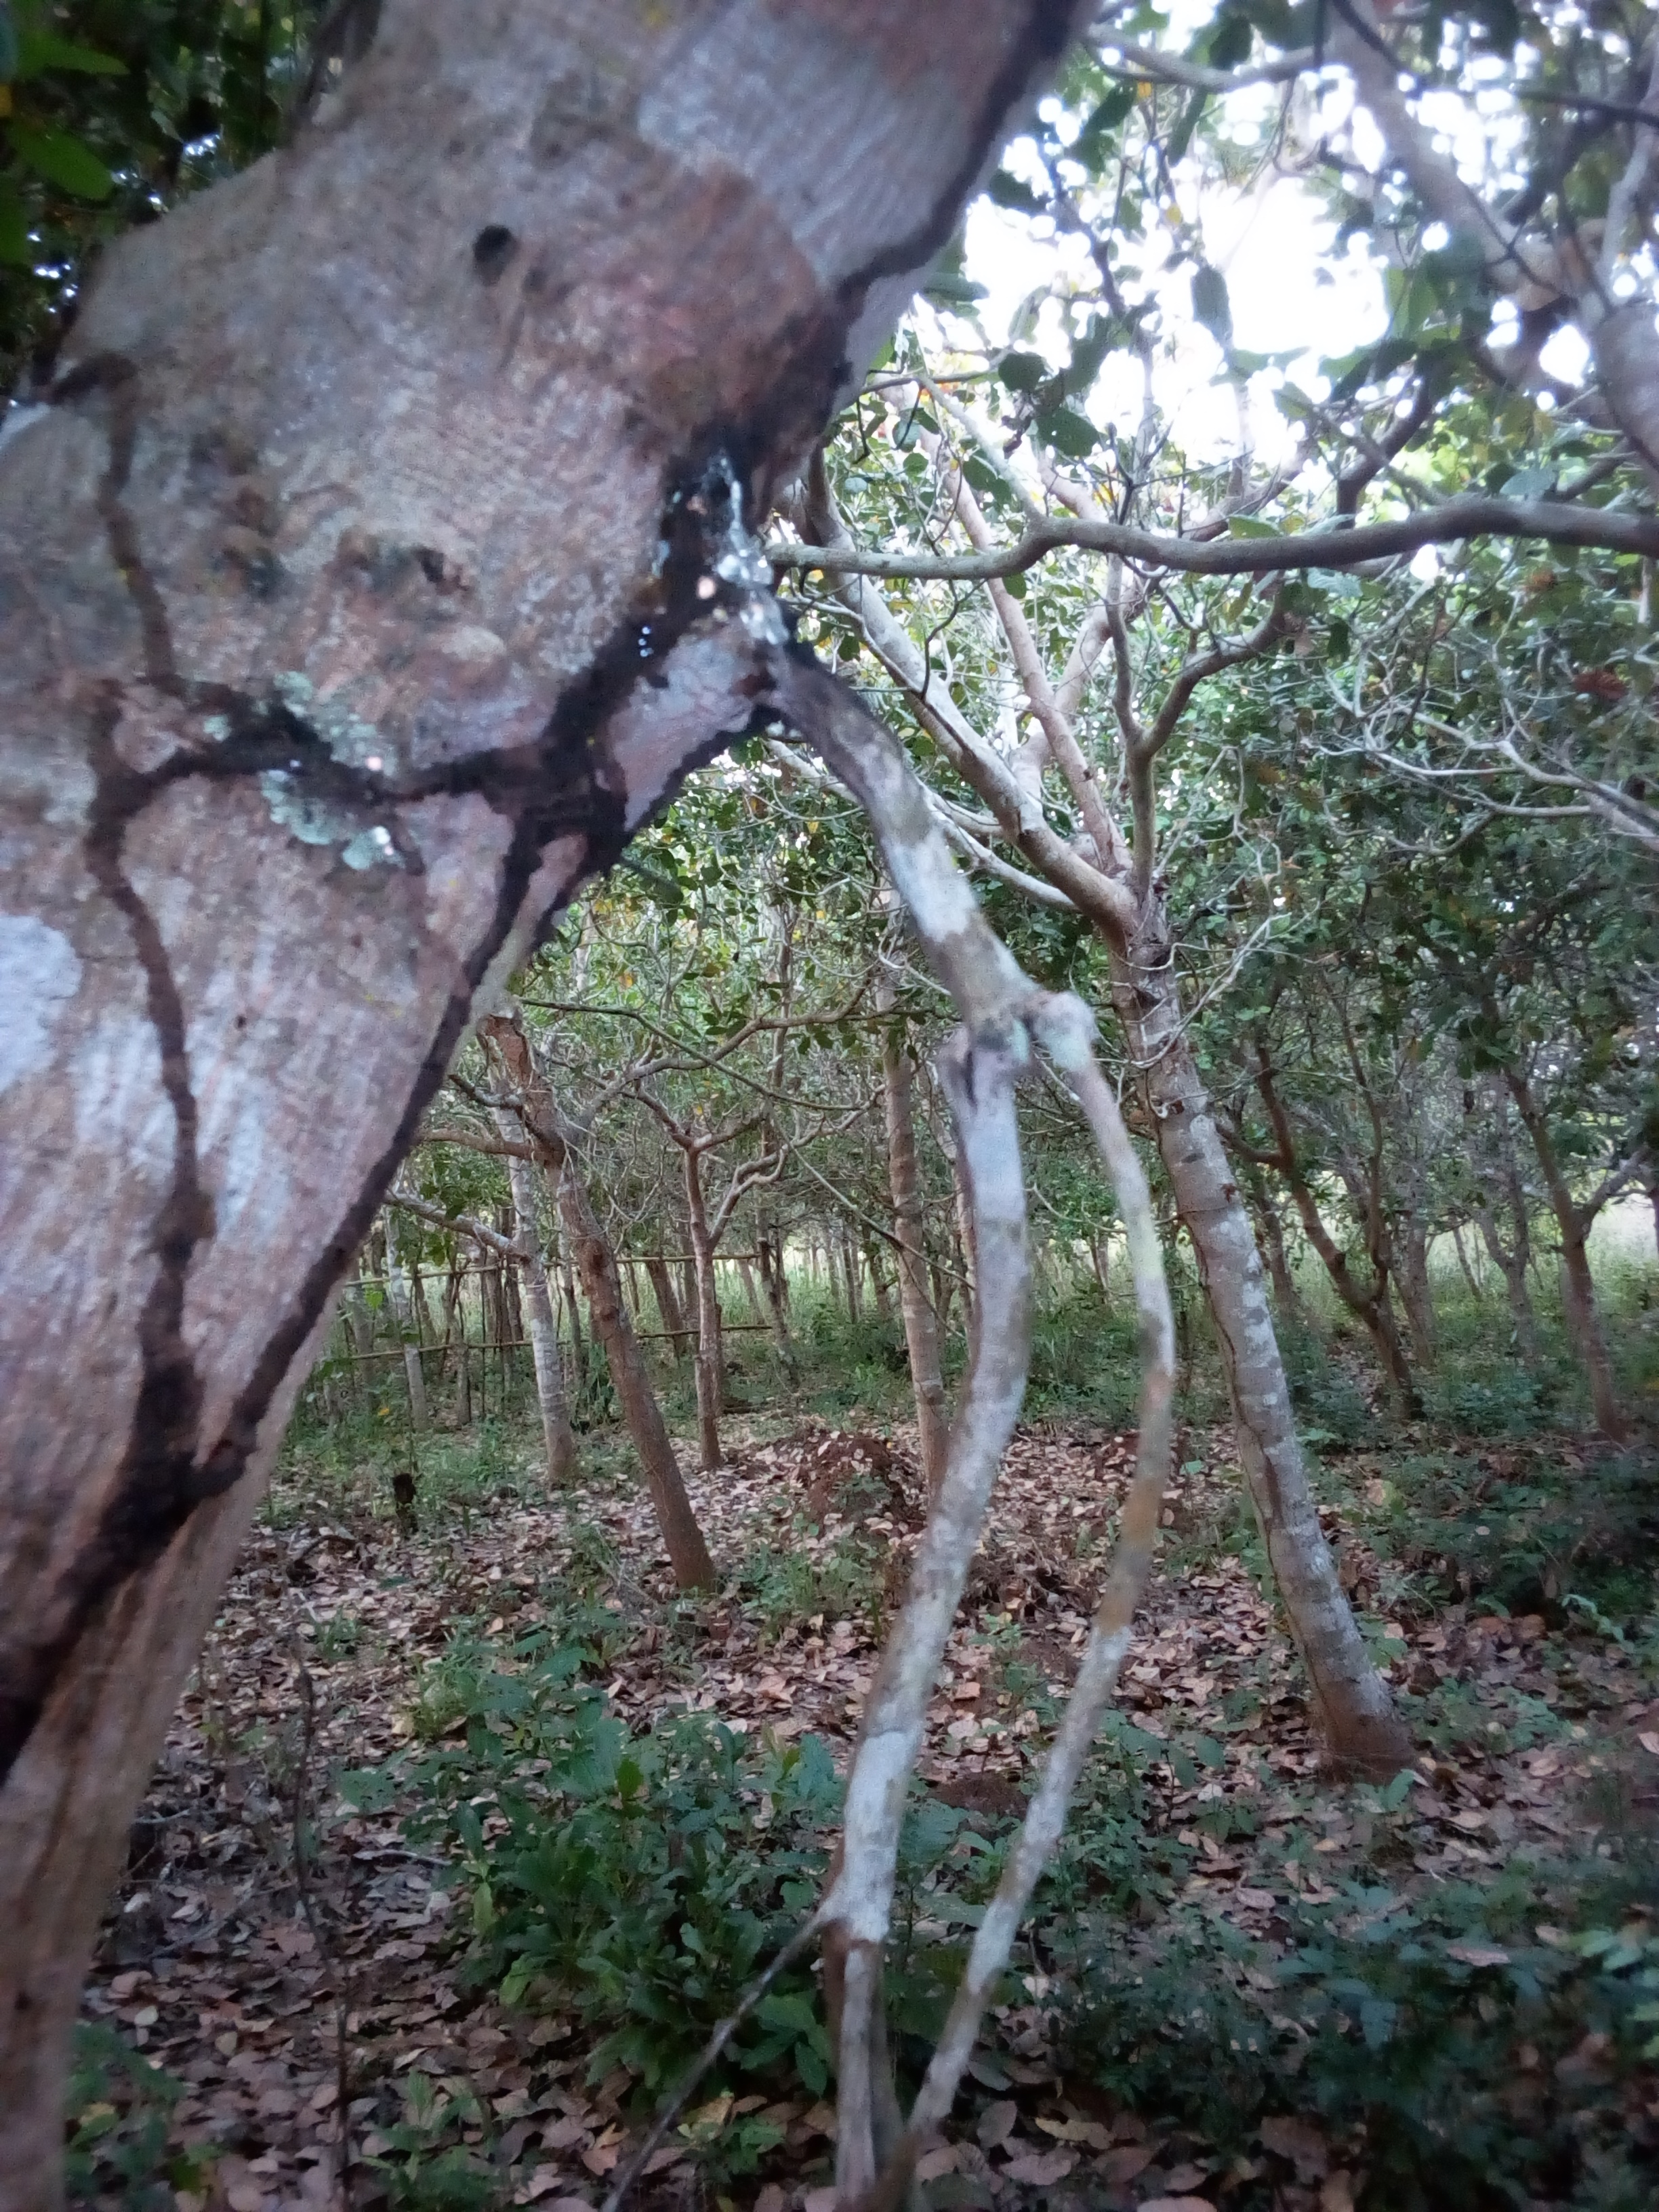Termites: (98, 737, 328, 1576)
